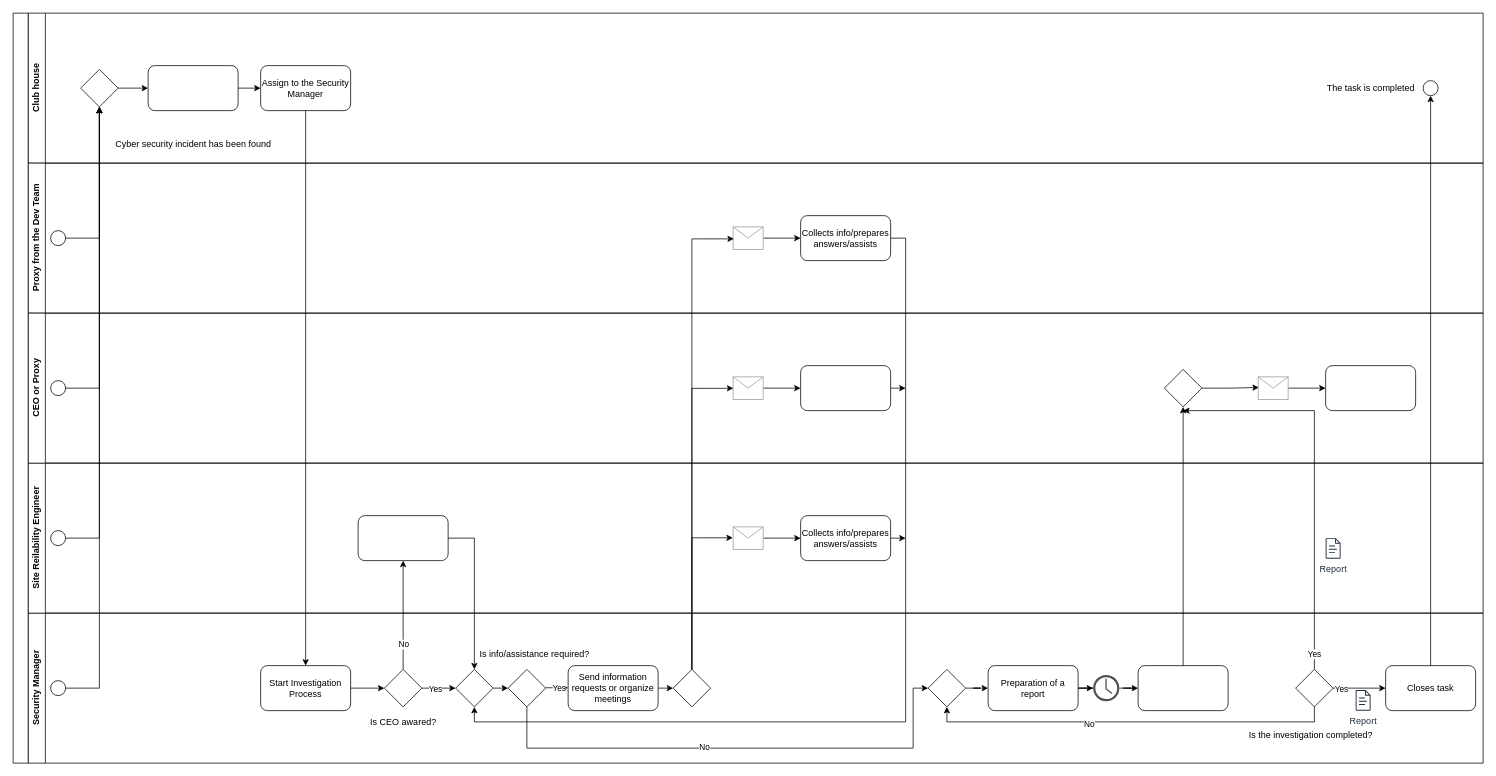
The diagram is 1496 pixels wide and 776 high, and some of its shapes have lost their labels. Each missing label, with the centre of its shape:
at least 48h: the point at 1106,688
Contacts with 3rd-parties: the point at 1370,388
Creates a ticket with labes "security" and "incident": the point at 192,88
Get incident information: the point at 402,538
Give an intermediate update to the CEO: the point at 1182,688
Incident Response: the point at 20,387
Prepares answers: the point at 845,388
